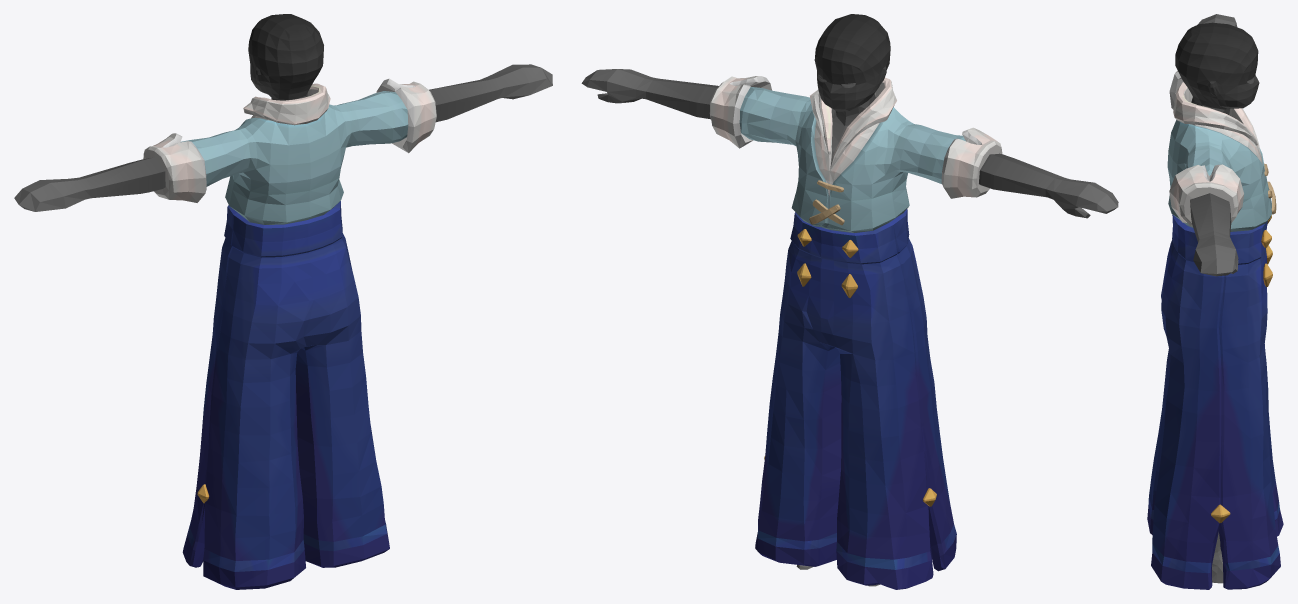
The model's file is CharSkyNPC_Body_AP32Sailor.glb.
3 views of the same model, side by side, from view 1: azimuth 30°, elevation 25°; view 2: azimuth 150°, elevation 25°; view 3: azimuth 270°, elevation 25° (orthographic).
Visible parts, largest first — view 1: CharSkyNPC_Body_AP32Sailor; view 2: CharSkyNPC_Body_AP32Sailor; view 3: CharSkyNPC_Body_AP32Sailor.
Boxes of the visible parts, x1,y1,x2,y2 form: CharSkyNPC_Body_AP32Sailor: (14, 14, 552, 589); CharSkyNPC_Body_AP32Sailor: (581, 14, 1118, 589); CharSkyNPC_Body_AP32Sailor: (1147, 14, 1283, 589).
Size of the model in its own units: 14.36 by 14.06 by 3.24.
Materials: 1 (1 with a texture image).
